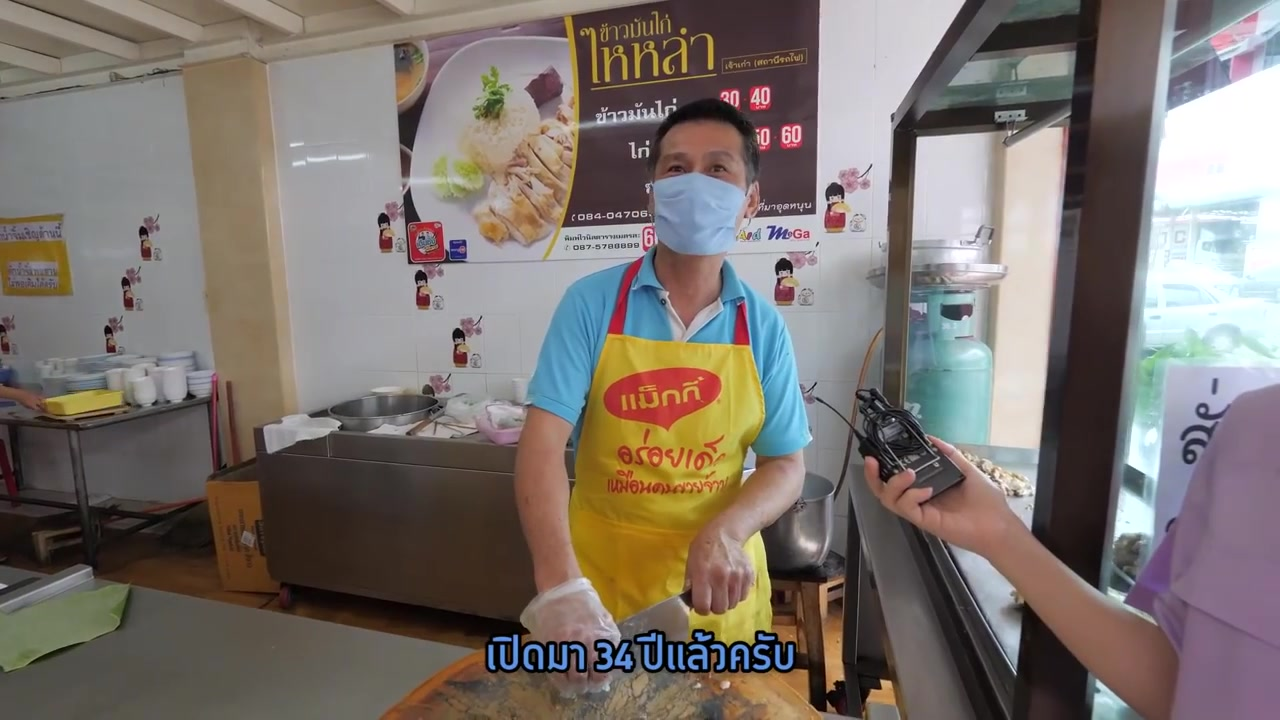text-label: (485, 624, 798, 672)
